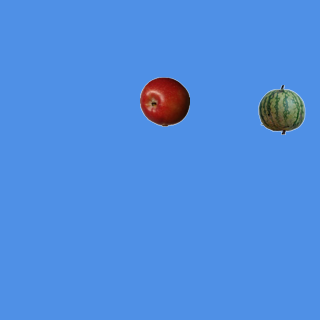Apple Braeburn: (139, 76, 189, 126)
Watermelon: (256, 84, 306, 134)
